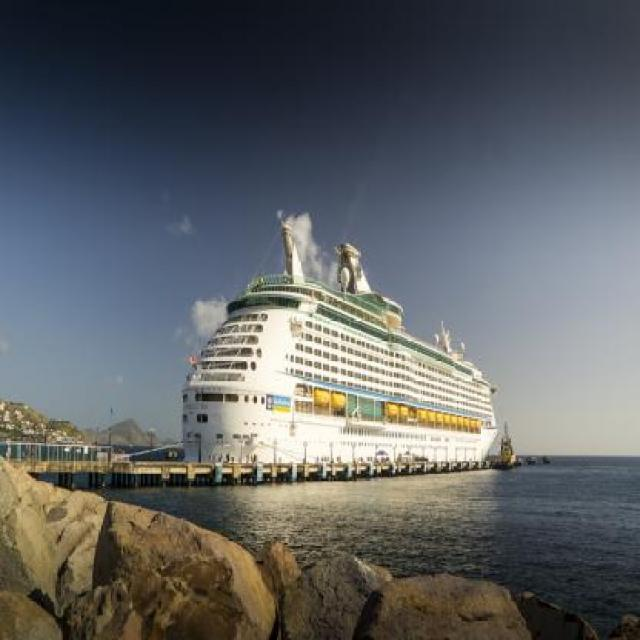ship: (178, 207, 500, 459), (489, 416, 522, 469), (524, 454, 536, 464), (542, 455, 549, 462)
